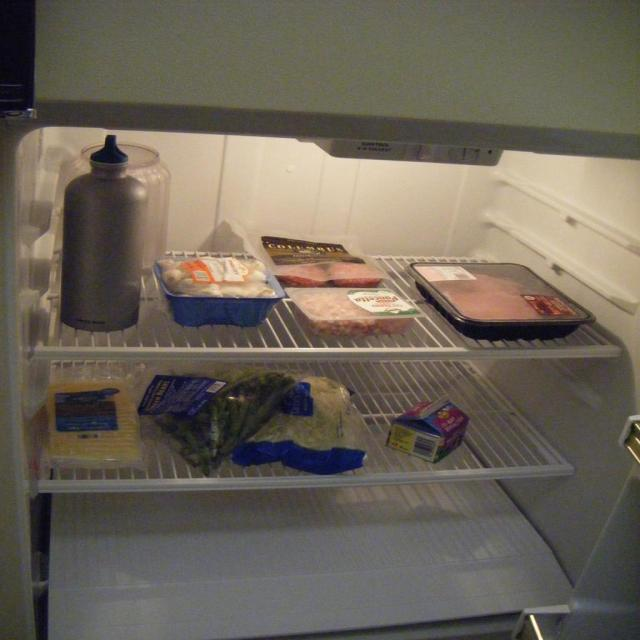refrigerator: (33, 31, 625, 622)
